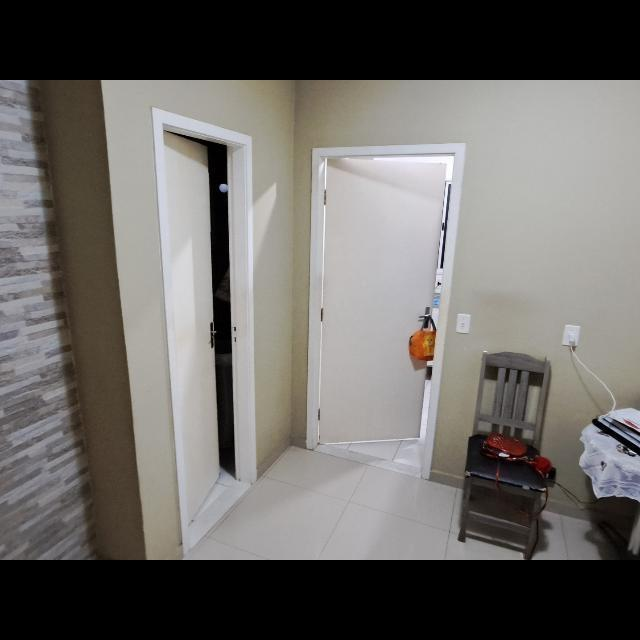door: (322, 148, 444, 436), (156, 128, 224, 540)
